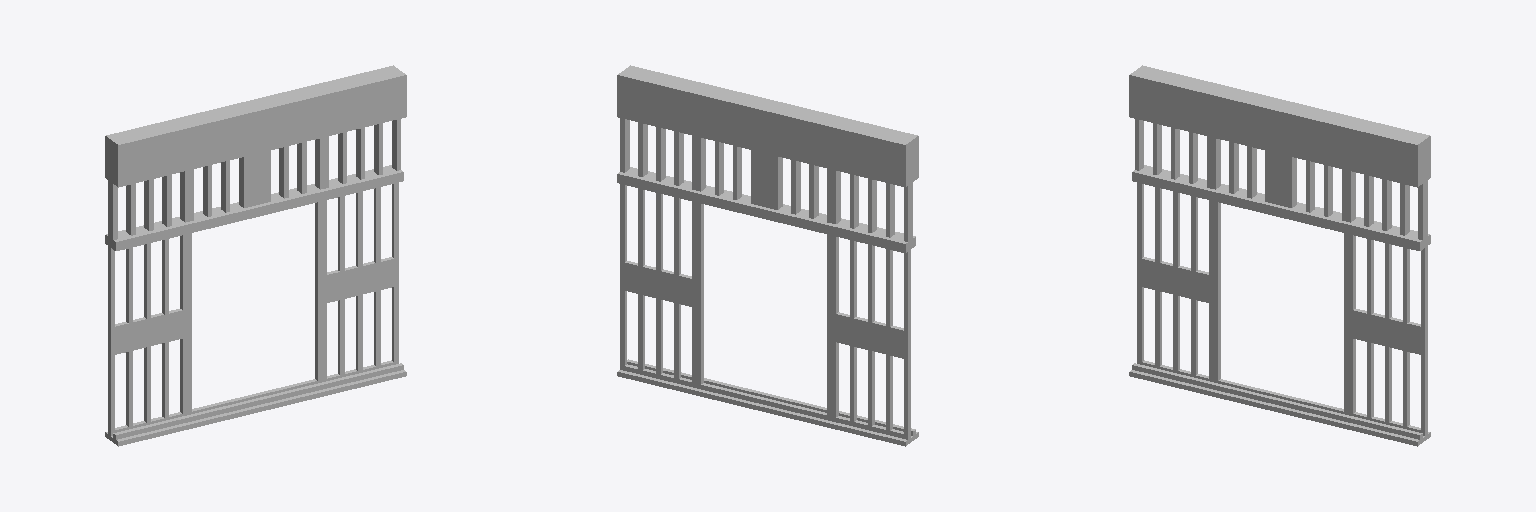
Rendered from barsEntranceSmall.obj.
3 renders of one model, left to right at view 1: azimuth 30°, elevation 25°; view 2: azimuth 150°, elevation 25°; view 3: azimuth 330°, elevation 25°, orthographic.
Visible parts, largest first — view 1: barsEntranceSmall; view 2: barsEntranceSmall; view 3: barsEntranceSmall.
Boxes of the visible parts, x1=… form: barsEntranceSmall: x1=105, y1=65, x2=406, y2=446; barsEntranceSmall: x1=617, y1=65, x2=918, y2=446; barsEntranceSmall: x1=1129, y1=65, x2=1430, y2=446.
Bounding box in the file's own units: 64 × 64 × 5.